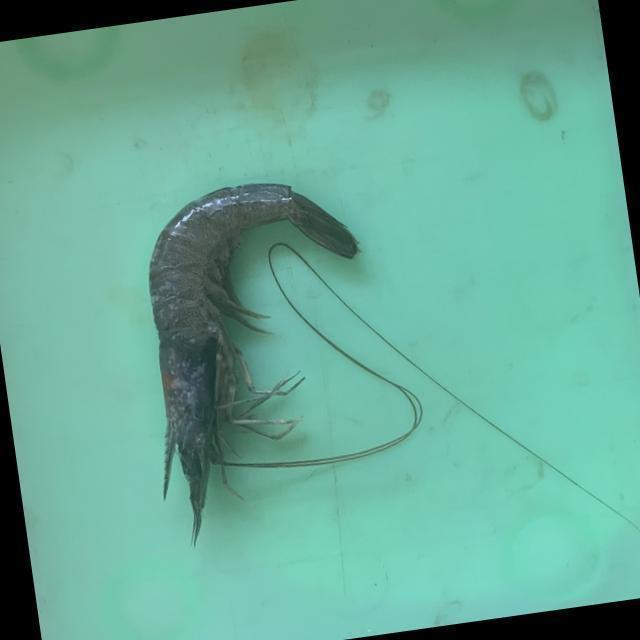shrimp: (150, 184, 358, 541)
